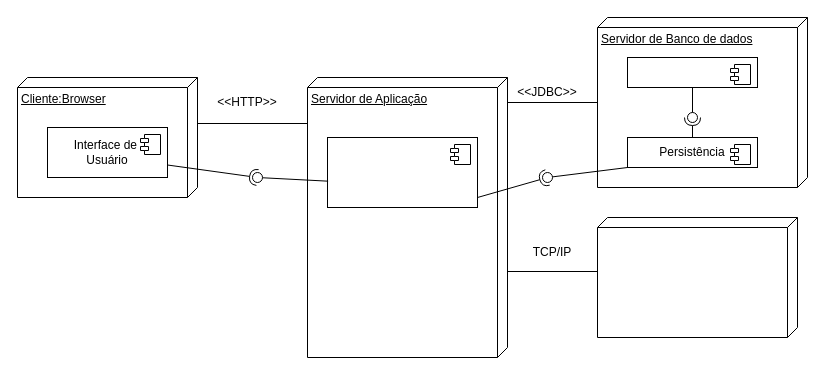
Some shapes in this 825 by 375 pixel diagram are drawn without their labels. The centre of each missing label's shape, as x and y in pixels:
moeda-estudantil.jar: point (402, 172)
Servidor de Notificação: point (697, 277)
SGBD: point (692, 72)
